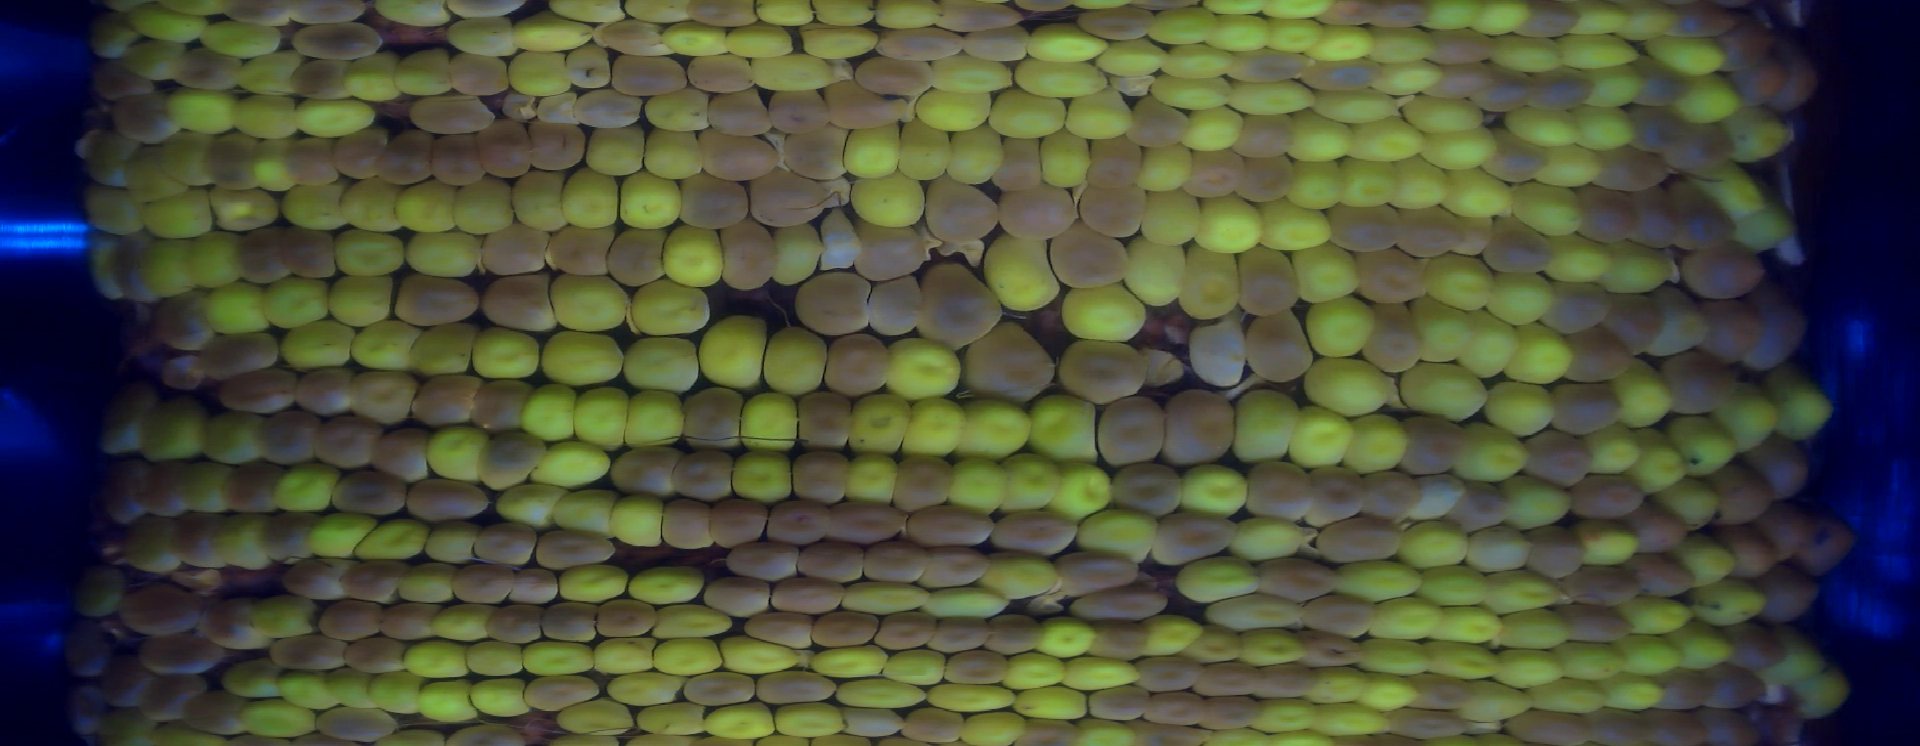fluorescent: (980, 229, 1067, 317), (1022, 390, 1112, 470), (1298, 349, 1396, 420), (876, 332, 969, 407), (541, 266, 636, 338), (1393, 359, 1493, 428), (1763, 360, 1839, 450), (1224, 385, 1307, 467), (1056, 277, 1153, 345), (691, 311, 773, 392), (129, 391, 213, 467), (535, 325, 628, 393), (1173, 241, 1250, 323), (1070, 501, 1166, 566), (622, 276, 716, 341), (613, 331, 705, 397), (1449, 416, 1533, 488), (1495, 465, 1580, 537), (756, 323, 833, 399), (1116, 233, 1191, 310), (1419, 247, 1502, 317), (1592, 232, 1678, 299), (656, 219, 733, 294), (954, 393, 1035, 464), (1191, 191, 1275, 260), (1403, 290, 1477, 367), (982, 85, 1076, 145), (894, 390, 973, 461), (1284, 239, 1365, 307), (1283, 399, 1359, 472), (940, 450, 1018, 521), (1711, 380, 1780, 458), (343, 314, 426, 379), (1251, 194, 1340, 255), (842, 386, 920, 456), (1665, 415, 1745, 483), (973, 548, 1067, 605), (1509, 179, 1589, 245), (523, 437, 620, 492), (1340, 409, 1417, 478), (1329, 554, 1431, 605), (1005, 53, 1113, 102), (615, 383, 693, 451), (465, 320, 545, 386), (847, 168, 929, 232), (1171, 551, 1267, 605), (609, 165, 687, 232), (1043, 458, 1122, 524), (403, 318, 482, 383), (1455, 307, 1527, 379), (506, 164, 576, 238), (120, 138, 193, 208), (564, 380, 634, 453), (553, 160, 622, 235), (992, 447, 1067, 516), (1303, 290, 1378, 359), (1362, 590, 1452, 647), (1501, 322, 1580, 387), (1611, 358, 1676, 436), (1431, 162, 1520, 219), (1482, 266, 1561, 330), (197, 274, 278, 337), (1685, 575, 1774, 631), (1483, 377, 1565, 439), (831, 669, 936, 717), (1624, 424, 1692, 496), (733, 386, 807, 453), (260, 267, 336, 332), (160, 82, 247, 138), (347, 512, 433, 568), (75, 175, 153, 238), (1397, 513, 1476, 576), (136, 185, 220, 243), (400, 225, 485, 283), (284, 92, 383, 141), (1344, 114, 1433, 169), (446, 171, 522, 235), (1015, 20, 1113, 69), (744, 49, 840, 99), (924, 48, 1020, 98), (1222, 73, 1322, 121), (276, 316, 359, 374), (132, 234, 202, 303), (1416, 122, 1509, 174), (116, 512, 189, 578), (1478, 566, 1569, 619), (389, 176, 465, 239), (322, 269, 398, 332), (420, 420, 496, 483), (1176, 458, 1251, 521), (1206, 589, 1308, 636), (1500, 99, 1589, 152), (263, 459, 342, 519), (184, 223, 247, 296), (331, 222, 410, 281), (1479, 29, 1575, 78), (1280, 109, 1360, 167), (1458, 519, 1536, 579), (636, 82, 718, 138), (938, 125, 1011, 187), (195, 407, 268, 469), (1652, 474, 1725, 537), (1058, 86, 1138, 143), (273, 175, 353, 233), (1224, 512, 1311, 565), (724, 446, 804, 502), (1642, 29, 1730, 81), (1723, 103, 1793, 168), (1138, 187, 1209, 251), (1671, 71, 1750, 129), (624, 559, 711, 610), (1543, 230, 1619, 289), (73, 122, 141, 189), (244, 588, 324, 643), (1736, 186, 1802, 254), (893, 118, 961, 183), (206, 510, 276, 573), (1555, 29, 1648, 77), (506, 9, 598, 56), (1763, 624, 1831, 688), (167, 454, 235, 518), (835, 447, 905, 510), (1384, 154, 1453, 217), (640, 122, 711, 184), (336, 174, 407, 235), (648, 599, 741, 646), (1054, 649, 1147, 696), (203, 183, 285, 235), (580, 121, 654, 180), (1547, 637, 1635, 686), (1493, 604, 1576, 655), (547, 483, 623, 539), (1009, 679, 1101, 725), (1698, 163, 1768, 224), (1141, 2, 1231, 50), (553, 692, 640, 741), (1572, 99, 1646, 157), (227, 47, 305, 100), (225, 89, 304, 143), (920, 581, 1013, 626), (715, 635, 806, 681), (604, 489, 669, 554), (122, 1, 211, 49), (516, 379, 582, 442), (1793, 659, 1855, 726), (840, 120, 909, 181), (765, 220, 827, 289), (838, 576, 936, 619), (196, 15, 288, 60), (1419, 637, 1506, 685), (152, 127, 216, 192), (67, 559, 132, 622), (302, 508, 377, 563), (1572, 514, 1647, 570), (907, 86, 996, 132), (441, 12, 520, 64), (425, 598, 504, 649), (1614, 590, 1700, 638), (1609, 630, 1689, 681), (1412, 563, 1495, 612), (1353, 630, 1436, 679), (503, 44, 576, 100), (923, 674, 1024, 714), (1402, 92, 1489, 138), (1134, 138, 1202, 197), (76, 229, 127, 307), (647, 635, 729, 684), (1593, 668, 1675, 717), (1427, 599, 1509, 648), (1335, 153, 1404, 211), (1485, 646, 1573, 691), (1675, 532, 1739, 594), (1305, 699, 1395, 744), (547, 562, 634, 608), (492, 478, 567, 530), (800, 16, 884, 62), (1307, 87, 1401, 129), (1035, 126, 1095, 191), (1580, 420, 1644, 480), (1524, 675, 1613, 719), (235, 697, 326, 740), (996, 646, 1073, 696), (1232, 622, 1313, 670), (462, 673, 536, 724), (1348, 668, 1427, 717), (1152, 40, 1239, 85), (1150, 70, 1237, 114), (811, 639, 895, 685), (1671, 620, 1742, 674), (768, 697, 850, 744), (269, 664, 345, 714), (218, 650, 290, 703), (1029, 611, 1102, 663), (698, 697, 784, 741), (1357, 24, 1442, 69), (418, 514, 487, 568), (1282, 156, 1352, 209), (655, 15, 733, 62), (391, 44, 457, 100), (1135, 609, 1209, 659), (411, 676, 485, 726), (362, 666, 432, 719), (514, 637, 605, 677), (1304, 21, 1382, 67), (1092, 34, 1168, 82), (396, 635, 471, 682), (83, 4, 142, 65), (116, 34, 190, 83), (1533, 142, 1609, 189), (585, 633, 662, 679), (1256, 13, 1333, 59), (344, 49, 404, 107), (1576, 64, 1648, 111), (1298, 659, 1371, 706), (1369, 58, 1449, 100), (722, 20, 797, 65), (602, 669, 686, 709), (633, 696, 714, 737), (876, 646, 953, 688), (386, 562, 460, 606), (320, 663, 383, 714), (462, 637, 535, 681), (1247, 693, 1320, 737), (1201, 12, 1280, 53), (247, 134, 299, 194), (953, 709, 1035, 746), (1180, 624, 1248, 668), (89, 702, 156, 746), (1615, 1, 1679, 47), (144, 717, 235, 746), (369, 1, 454, 32), (1468, 1, 1536, 39), (869, 1, 947, 34), (1064, 712, 1138, 746), (1567, 1, 1633, 39), (540, 1, 628, 29), (1418, 1, 1490, 36), (749, 1, 820, 34), (807, 1, 879, 32), (1256, 1, 1340, 24), (617, 1, 696, 26), (1199, 723, 1270, 746)
nonfluorescent: (959, 317, 1063, 407), (913, 260, 1005, 352), (1160, 385, 1243, 475), (1044, 217, 1138, 296), (1049, 334, 1152, 405), (1656, 345, 1745, 423), (920, 169, 1007, 247), (1745, 279, 1813, 379), (1663, 176, 1742, 258), (1092, 391, 1173, 470), (1180, 309, 1254, 394), (789, 269, 876, 342), (1675, 238, 1771, 303), (991, 180, 1084, 246), (1240, 304, 1318, 383), (1796, 495, 1865, 584), (669, 167, 756, 236), (1691, 290, 1771, 366), (977, 503, 1086, 559), (1518, 419, 1599, 492), (1229, 241, 1307, 317), (696, 125, 789, 187), (1147, 507, 1240, 570), (389, 269, 486, 330), (818, 328, 898, 401), (1543, 377, 1630, 443), (1357, 298, 1428, 379), (850, 216, 931, 285), (1745, 429, 1816, 507), (1477, 214, 1562, 279), (1556, 325, 1642, 390), (1239, 457, 1319, 527), (1314, 510, 1406, 570), (1348, 243, 1431, 309), (1391, 409, 1468, 480), (817, 494, 916, 549), (817, 77, 913, 134), (744, 167, 831, 229), (1536, 274, 1619, 339), (1752, 555, 1824, 630), (1296, 459, 1371, 530), (1701, 461, 1778, 530), (1566, 179, 1644, 247), (1319, 198, 1412, 256), (711, 216, 778, 296), (469, 429, 552, 492), (191, 328, 287, 383), (343, 363, 422, 429), (115, 581, 208, 637), (478, 269, 560, 333), (1390, 198, 1472, 262), (282, 17, 388, 66), (96, 386, 160, 465), (1707, 522, 1787, 587), (902, 500, 1000, 552), (1768, 24, 1823, 118), (104, 228, 167, 310), (1518, 522, 1594, 589), (1254, 551, 1344, 608), (1565, 469, 1653, 527), (1104, 454, 1184, 518), (676, 381, 747, 452), (601, 222, 673, 292), (782, 440, 855, 510), (324, 465, 415, 521), (1048, 548, 1142, 600), (1075, 180, 1153, 243), (305, 410, 384, 472), (1717, 619, 1798, 679), (1620, 179, 1685, 254), (1351, 465, 1427, 529), (402, 473, 491, 527), (1550, 597, 1640, 650), (476, 219, 555, 281), (789, 385, 857, 454), (782, 120, 853, 187), (888, 450, 959, 517), (407, 367, 482, 430), (403, 89, 500, 138), (542, 220, 620, 282), (1587, 145, 1674, 198), (602, 49, 693, 100), (1716, 1, 1777, 77), (1297, 588, 1385, 641), (1482, 127, 1559, 187), (1560, 560, 1647, 612), (531, 526, 624, 575), (665, 445, 742, 503), (474, 114, 539, 184), (271, 220, 342, 284), (789, 534, 874, 587), (1124, 89, 1196, 152), (1621, 499, 1695, 560), (1603, 289, 1669, 356), (365, 425, 435, 489), (252, 405, 322, 469), (862, 272, 924, 343), (1621, 551, 1704, 604), (869, 22, 969, 66), (309, 702, 408, 746), (852, 50, 939, 100), (198, 597, 271, 657), (1625, 51, 1697, 111), (1071, 584, 1176, 626), (1078, 612, 1157, 666), (58, 609, 121, 676), (1523, 64, 1603, 118), (152, 288, 222, 349), (1622, 98, 1696, 156), (310, 592, 388, 646), (230, 223, 295, 288), (165, 510, 230, 575), (94, 646, 158, 712), (1376, 699, 1472, 744), (703, 86, 778, 142), (1401, 465, 1476, 522), (1446, 477, 1513, 539), (989, 127, 1051, 196), (721, 537, 807, 586), (126, 459, 195, 521), (807, 205, 868, 273), (520, 116, 590, 176), (609, 443, 684, 499), (913, 540, 997, 590), (138, 628, 225, 676), (214, 365, 299, 414), (425, 129, 489, 194), (372, 127, 436, 192), (100, 92, 179, 145), (132, 669, 211, 722), (856, 537, 936, 588), (737, 608, 823, 655), (1471, 58, 1543, 114), (744, 668, 845, 708), (516, 670, 607, 714), (1731, 38, 1787, 111), (1081, 131, 1149, 191), (705, 491, 773, 551), (1665, 122, 1736, 179), (465, 518, 541, 571), (277, 551, 353, 604), (593, 15, 678, 61), (1647, 661, 1719, 717), (564, 87, 648, 135), (464, 369, 527, 432), (653, 495, 718, 556), (804, 605, 885, 654), (1178, 146, 1251, 200), (1287, 624, 1368, 673), (1229, 109, 1304, 162), (767, 571, 849, 619), (1501, 706, 1598, 746), (759, 496, 835, 548), (174, 687, 253, 736), (218, 458, 283, 518), (96, 454, 149, 527), (589, 589, 661, 643), (293, 363, 359, 421), (263, 628, 351, 673), (1224, 45, 1311, 89), (1580, 701, 1664, 746), (1633, 699, 1716, 746), (328, 124, 393, 183), (1752, 499, 1811, 563), (931, 1, 1031, 39), (684, 49, 760, 99), (333, 552, 405, 605), (1231, 149, 1299, 205), (285, 53, 356, 105), (1127, 650, 1211, 695), (531, 597, 604, 648), (167, 44, 246, 91), (336, 631, 415, 677), (1190, 658, 1273, 702), (202, 129, 260, 192), (869, 608, 944, 657), (1403, 668, 1478, 717), (762, 87, 833, 138), (442, 49, 513, 100), (1423, 24, 1501, 71), (1073, 5, 1160, 47), (677, 668, 764, 709), (955, 21, 1032, 67), (1140, 685, 1218, 730), (700, 572, 770, 622), (1698, 658, 1764, 710), (373, 595, 442, 646), (1690, 701, 1763, 746), (280, 134, 340, 189), (447, 559, 518, 605), (1251, 658, 1322, 704), (84, 55, 157, 100), (981, 609, 1046, 659), (1511, 1, 1587, 44), (1740, 699, 1810, 746), (256, 508, 315, 563), (1424, 59, 1498, 103), (1305, 55, 1385, 96), (482, 599, 547, 648), (923, 612, 997, 655), (1082, 684, 1155, 726), (1667, 1, 1744, 40), (898, 706, 971, 746), (939, 647, 1011, 687), (1195, 692, 1265, 734), (835, 703, 909, 740), (1136, 342, 1191, 391), (1447, 212, 1500, 258), (284, 1, 371, 29), (678, 1, 760, 31), (213, 1, 291, 32), (502, 568, 564, 606), (1128, 715, 1202, 746), (1011, 714, 1082, 746), (154, 349, 208, 391), (1369, 1, 1439, 32), (65, 688, 111, 733), (495, 86, 544, 124), (1316, 1, 1380, 29)
